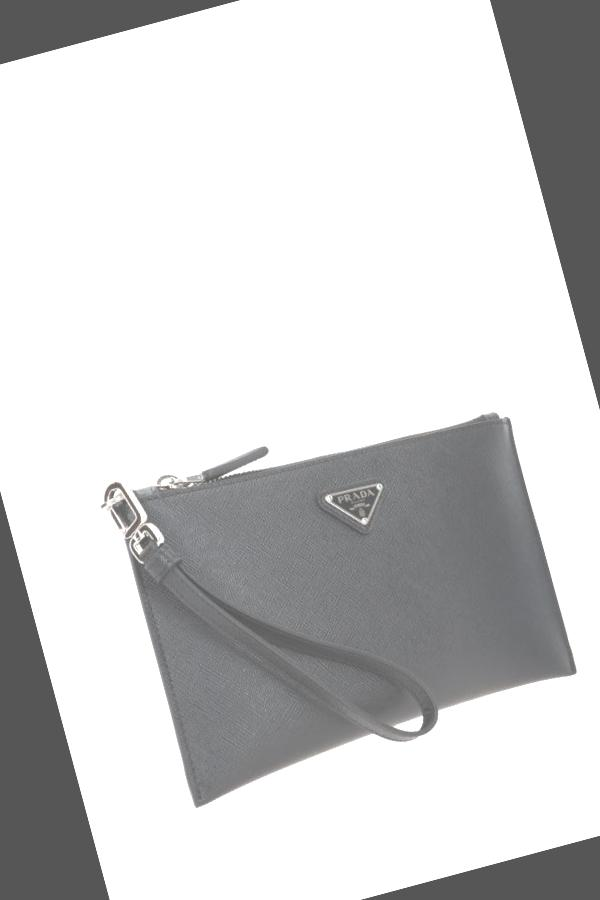PRADA: (324, 480, 391, 534)
